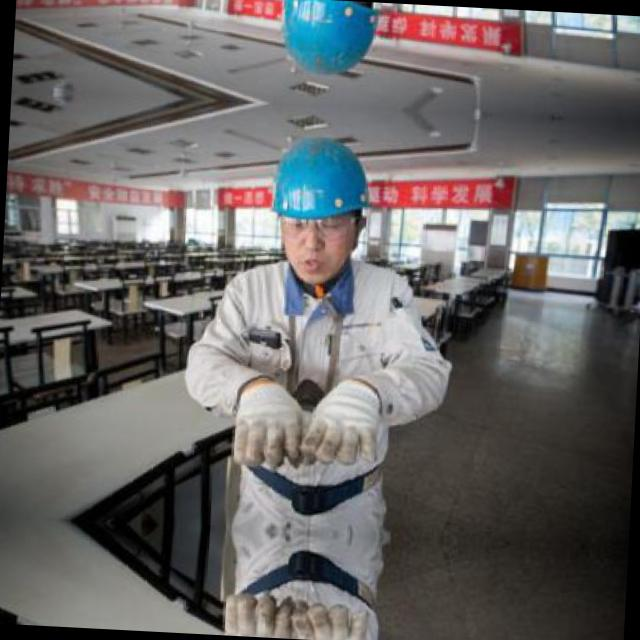helmet: (262, 122, 381, 290), (272, 0, 389, 91)
